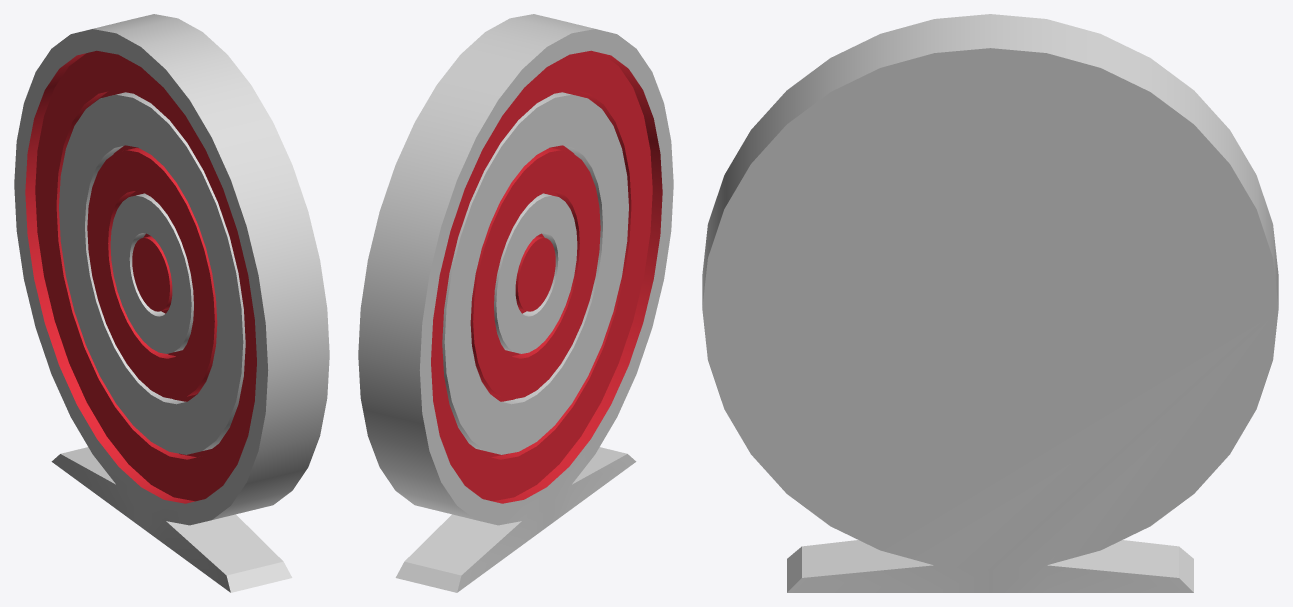
Rendered from Diana.fbx.
3 views of the same model, side by side, from view 1: azimuth 30°, elevation 25°; view 2: azimuth 150°, elevation 25°; view 3: azimuth 270°, elevation 25° (orthographic). The views are drawn at different scales.
Parts seen in each view (by area): view 1: Cilindro; view 2: Cilindro; view 3: Cilindro.
Part boxes in pixels (<box>): Cilindro: <box>14,14,329,592</box>; Cilindro: <box>358,14,673,592</box>; Cilindro: <box>702,14,1278,592</box>.
Size of the model in its own units: 18.1 by 135 by 129.
